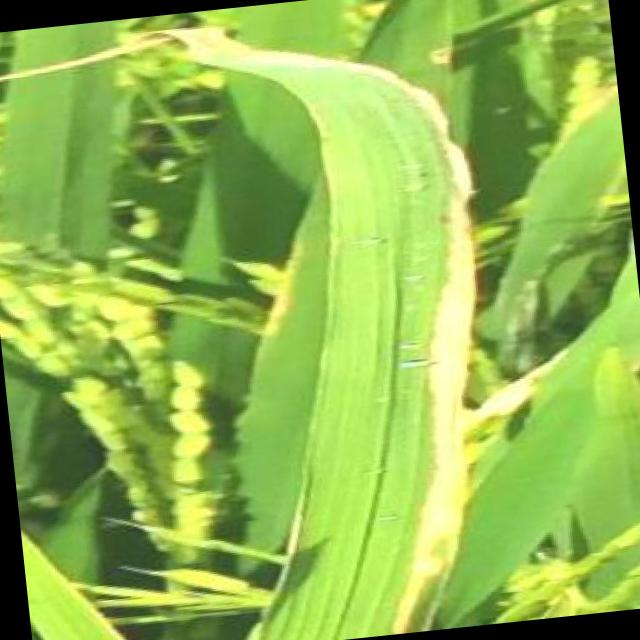Rice_Bacterial_Blight: (291, 126, 516, 631)
